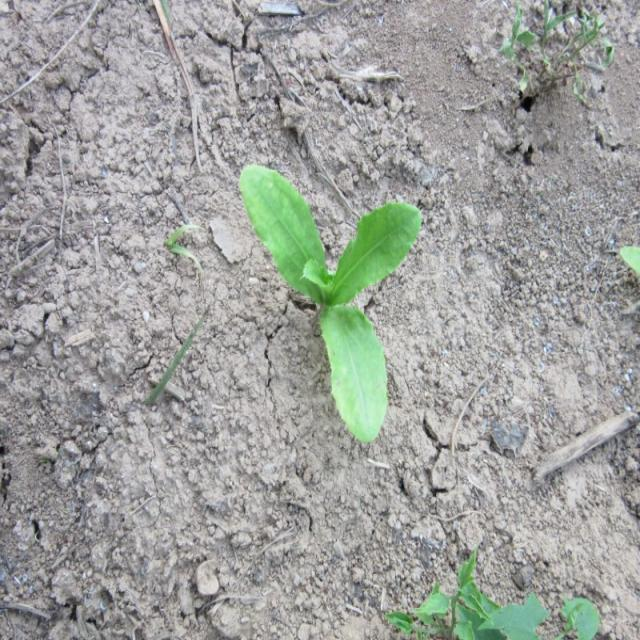cs: (238, 162, 420, 442)
